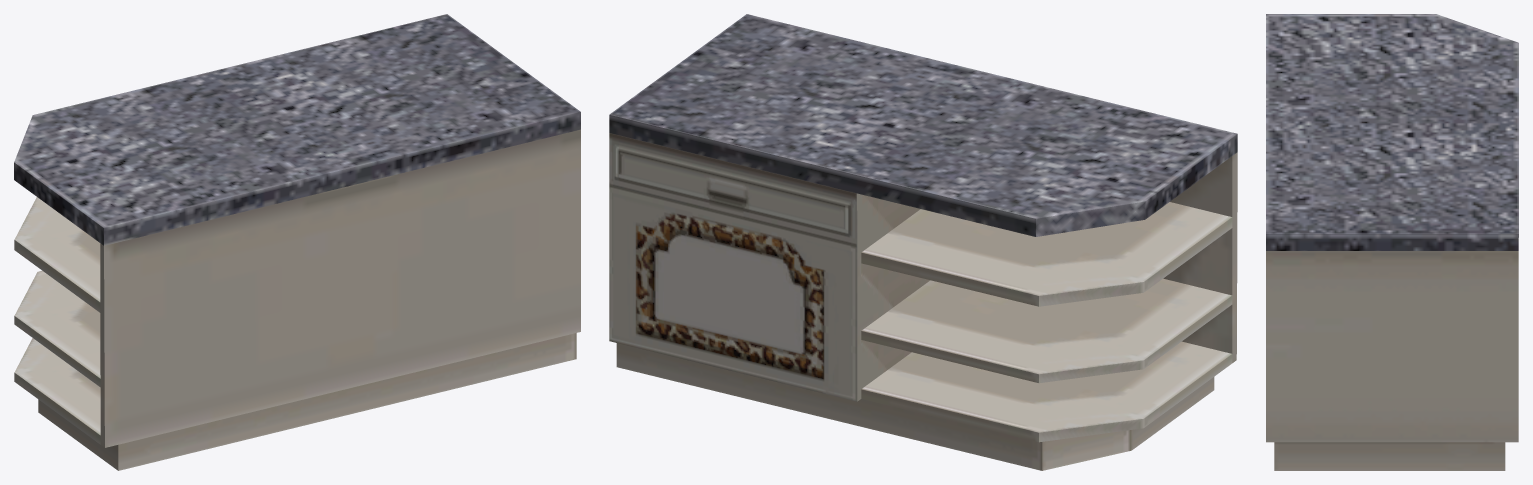
Rendered from furni_0200090.FBX.
3 renders of one model, left to right at view 1: azimuth 30°, elevation 25°; view 2: azimuth 150°, elevation 25°; view 3: azimuth 270°, elevation 25°, orthographic. The views are drawn at different scales.
Parts seen in each view (by area): view 1: furni_0200090; view 2: furni_0200090; view 3: furni_0200090.
Part boxes in pixels (box(x1,y1,x2,y2)): furni_0200090: box(14, 14, 580, 470); furni_0200090: box(609, 14, 1237, 470); furni_0200090: box(1266, 14, 1518, 470).
Bounding box in the file's own units: 159 × 80 × 77.36.
1 material, 1 textured.
